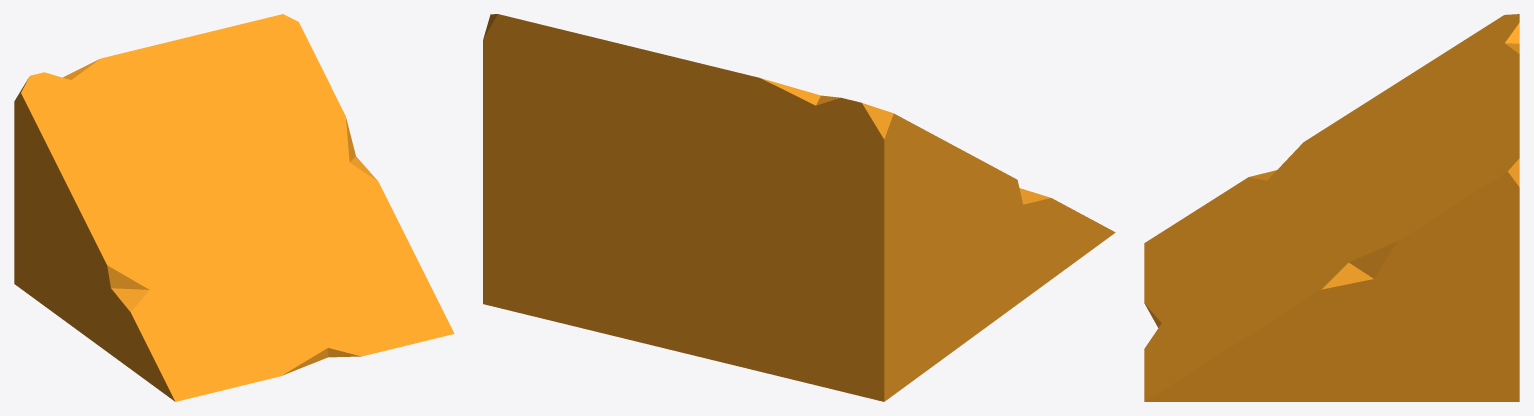
The model's file is SM_Buildings_Ramp_35_1x1_01P.fbx.
The picture shows the model from 3 angles, left to right: view 1: azimuth 30°, elevation 25°; view 2: azimuth 150°, elevation 25°; view 3: azimuth 270°, elevation 25°; orthographic projection. The views are drawn at different scales.
Visible parts, largest first — view 1: SM_Buildings_Ramp_35_1x1_01P; view 2: SM_Buildings_Ramp_35_1x1_01P; view 3: SM_Buildings_Ramp_35_1x1_01P.
Boxes of the visible parts, x1,y1,x2,y2 form: SM_Buildings_Ramp_35_1x1_01P: (14,14,454,401); SM_Buildings_Ramp_35_1x1_01P: (483,14,1115,401); SM_Buildings_Ramp_35_1x1_01P: (1144,14,1519,401).
Bounding box in the file's own units: 100 × 69.98 × 100.
